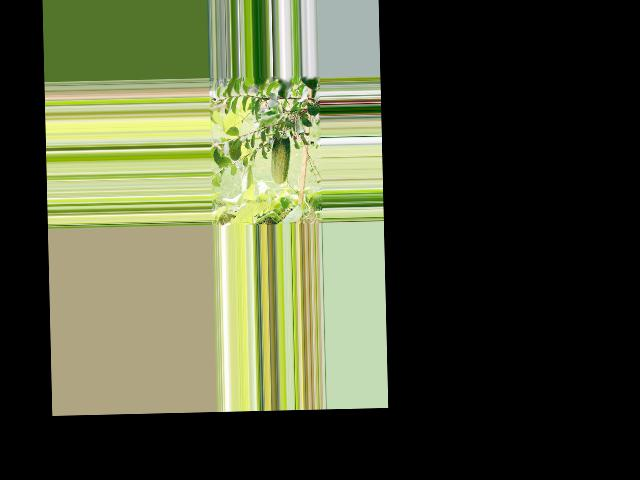cucumber: (270, 130, 292, 184)
